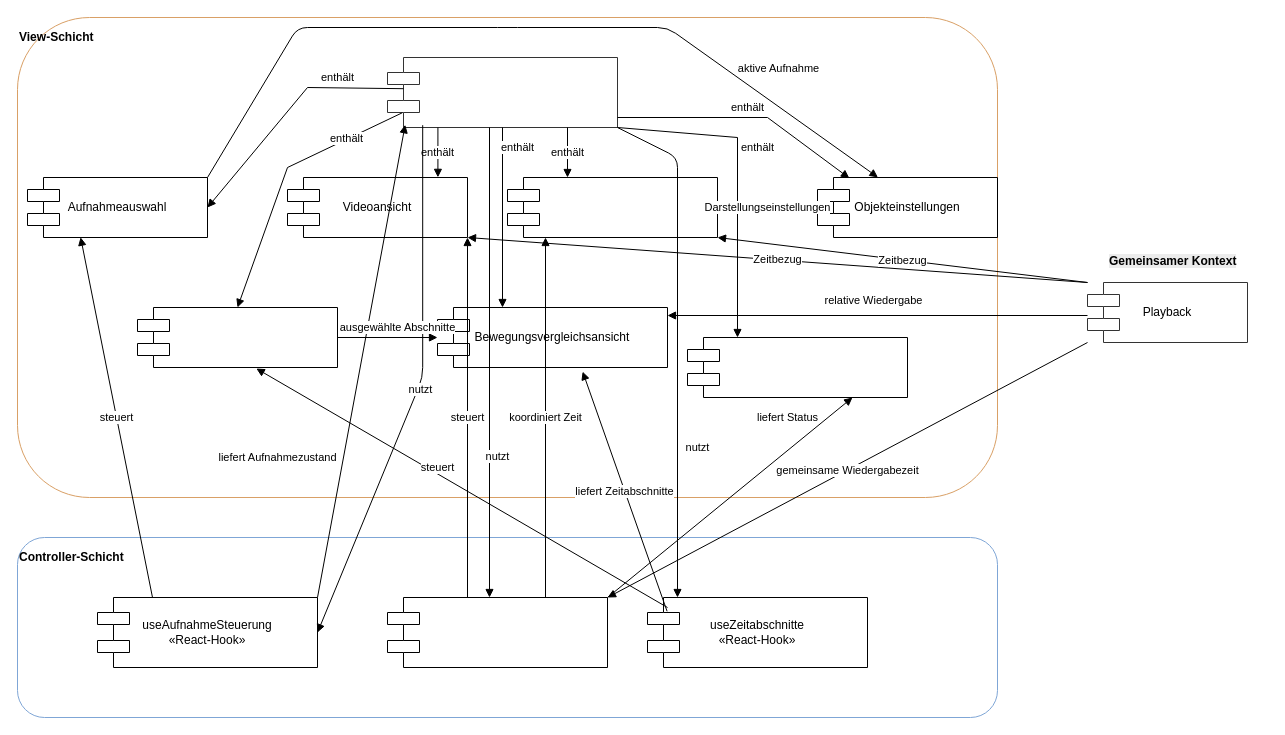
This 1285x735 diagram has some shape labels left out. The shapes that lost their labels are listed below. From the top down, each one's box as (x1, y1, x2, y2) in pixels, then its label:
(386, 56, 618, 128): Integrierte Analyseoberfläche
(506, 176, 718, 238): 3D-Trajektorienansicht
(136, 306, 338, 368): Zeitabschnittsansicht
(686, 336, 908, 398): Synchronisationsdiagnose
(386, 596, 608, 668): useVideoWiedergabe «React-Hook»
